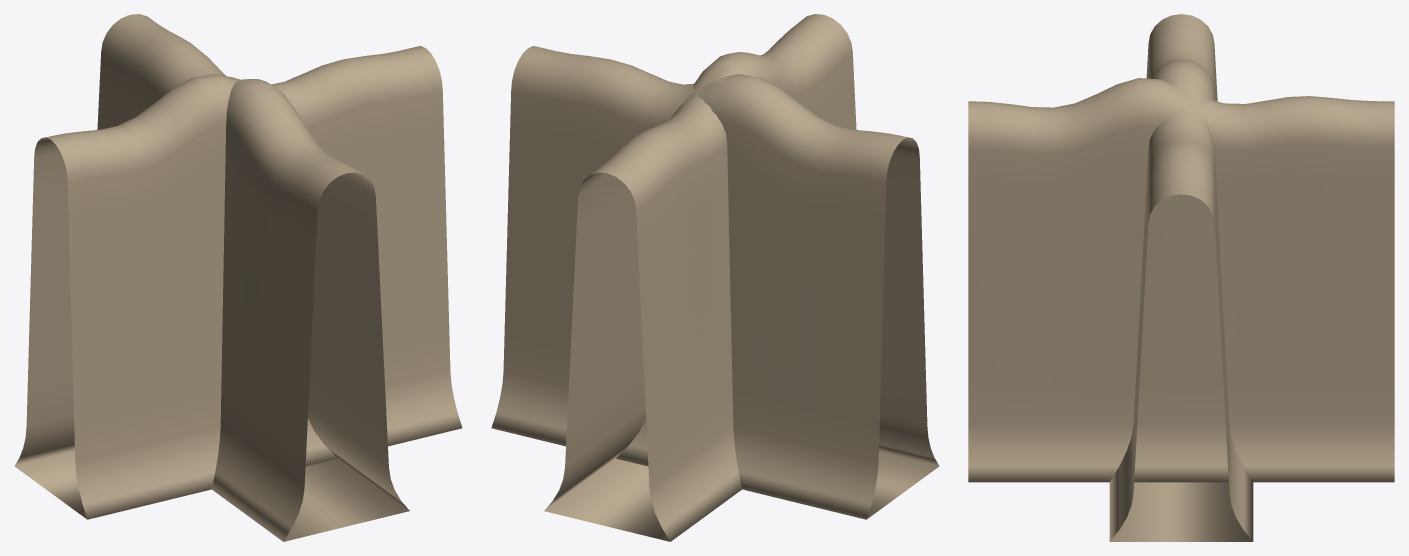
Rendered from KFB_Wall_cross.r3.glb.
3 renders of one model, left to right at view 1: azimuth 30°, elevation 25°; view 2: azimuth 150°, elevation 25°; view 3: azimuth 270°, elevation 25°, orthographic.
Visible parts, largest first — view 1: KFB_Wall_cross; view 2: KFB_Wall_cross; view 3: KFB_Wall_cross.
Boxes of the visible parts, x1,y1,x2,y2 form: KFB_Wall_cross: [14, 14, 462, 541]; KFB_Wall_cross: [491, 14, 939, 541]; KFB_Wall_cross: [968, 14, 1394, 541].
Bounding box in the file's own units: 4 × 3.84 × 4.
